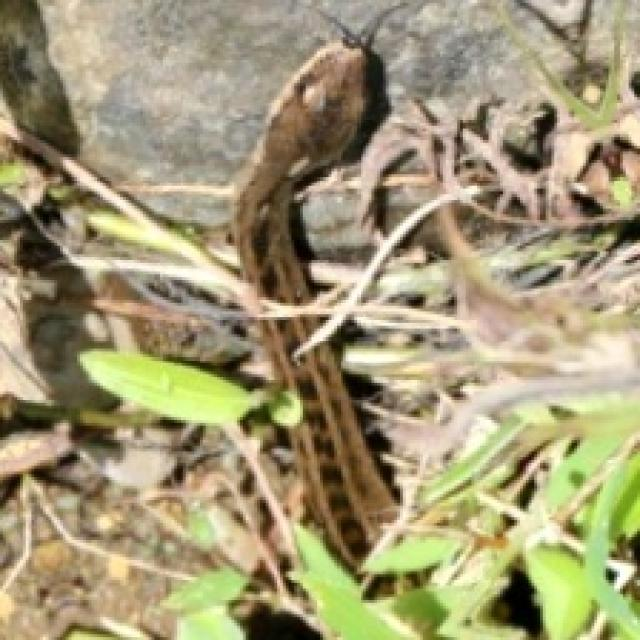boies keelback: (234, 37, 386, 303), (263, 317, 394, 566)
